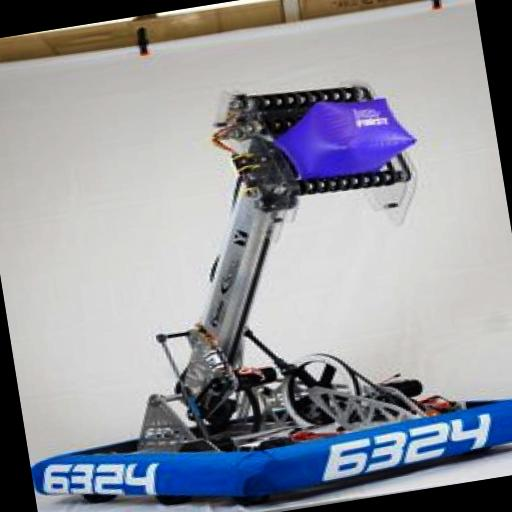robot: (0, 39, 512, 512)
